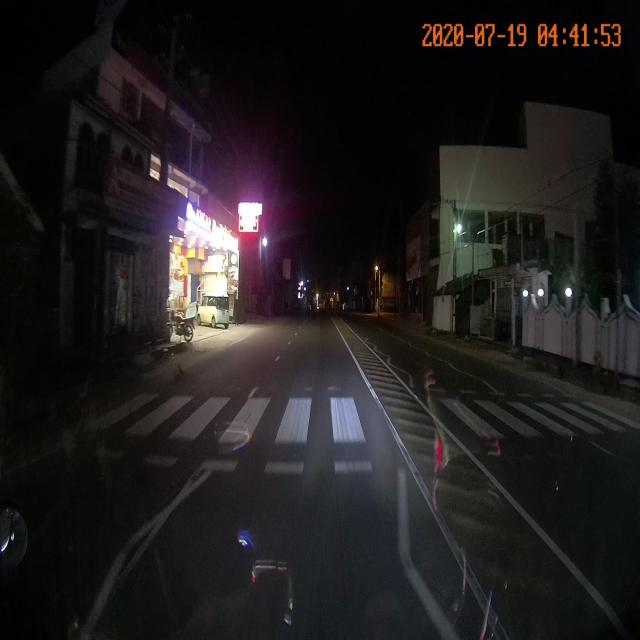Crosswalk: (48, 381, 640, 481)
